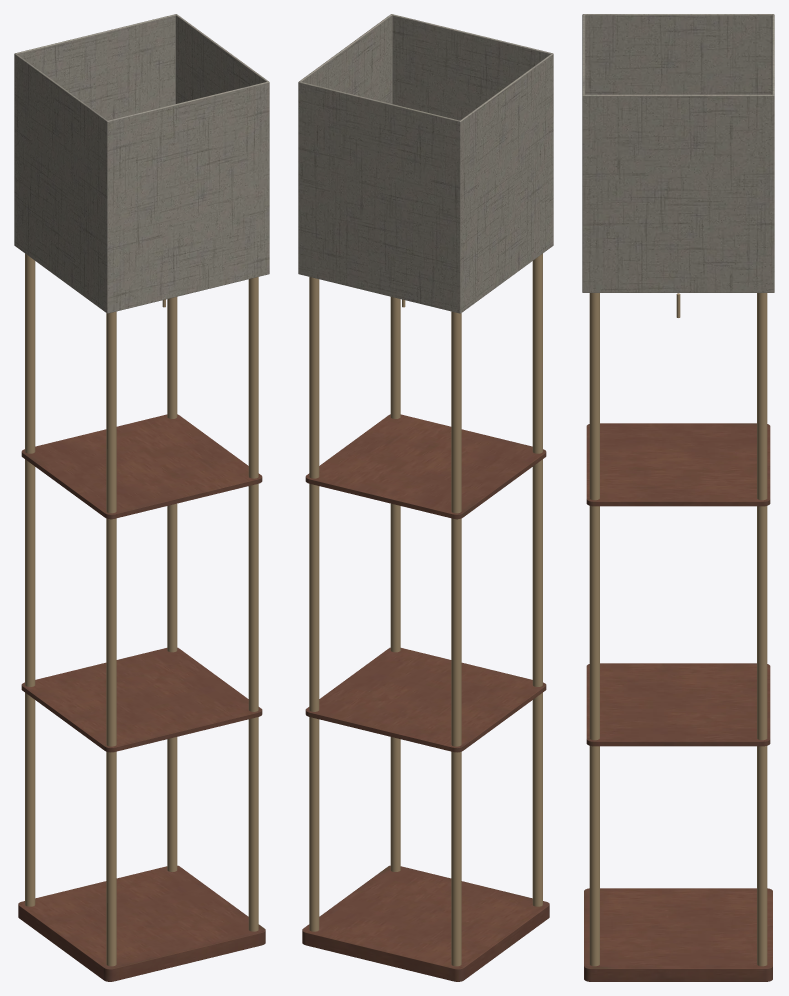
Rendered from abo-B073P3S1NX.glb.
3 renders of one model, left to right at view 1: azimuth 30°, elevation 25°; view 2: azimuth 150°, elevation 25°; view 3: azimuth 270°, elevation 25°, orthographic. The views are drawn at different scales.
Size of the model in its own units: 0.31 by 1.57 by 0.308.
1 material, 1 textured.
